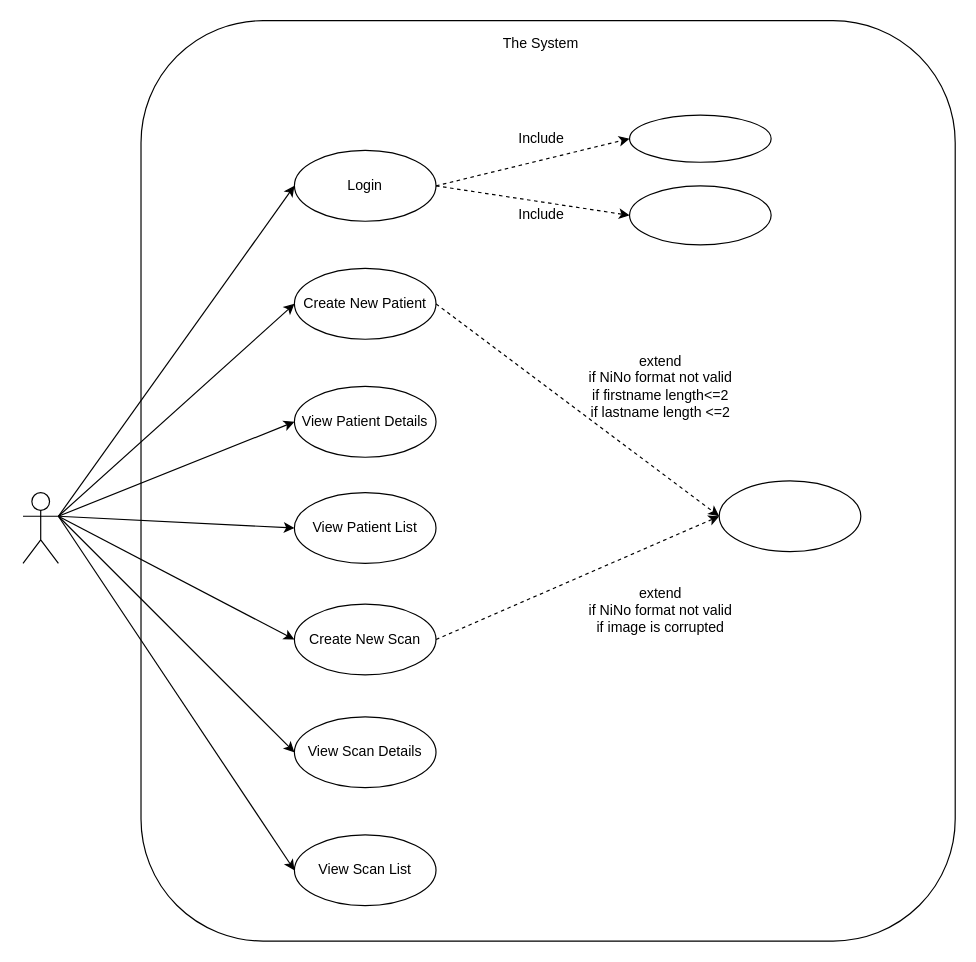
This 976x962 diagram has some shape labels left out. Each missing label, with the box of its shape:
Display Login Error: (628, 185, 771, 245)
Display Operation Failed Error: (718, 480, 861, 552)
Doctor: (22, 491, 58, 563)
Verify Password: (628, 114, 771, 162)
